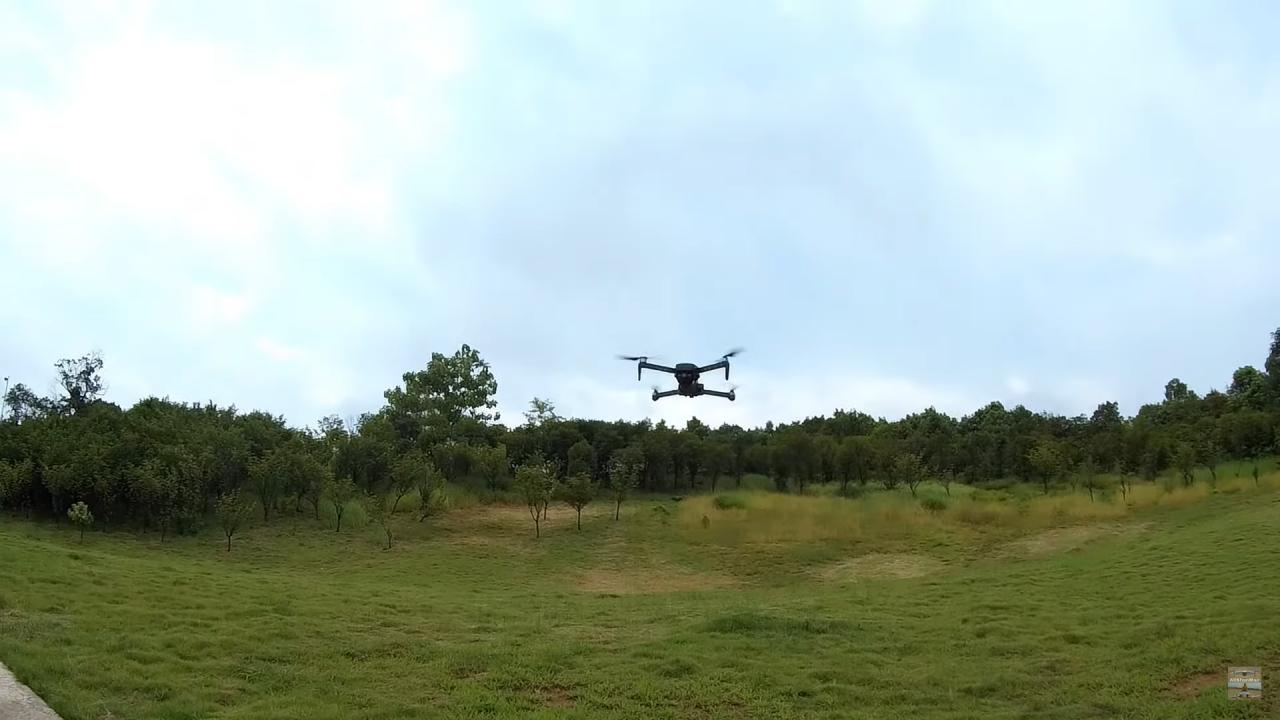Drone: (601, 335, 756, 414)
